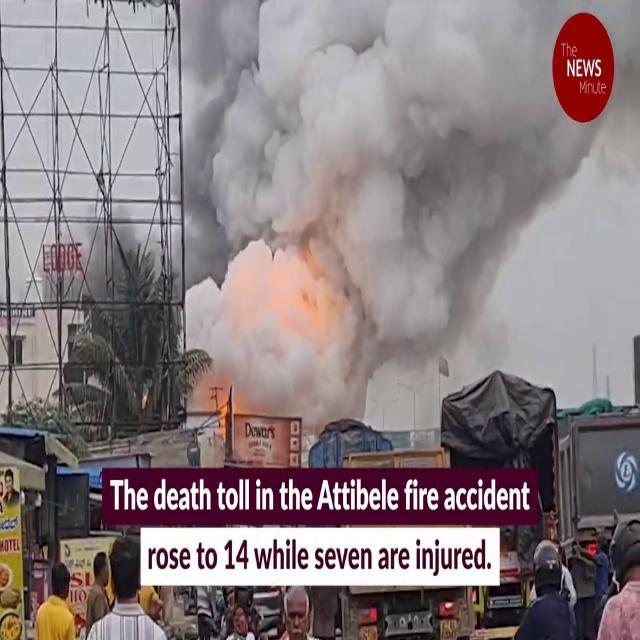Smoke: (174, 1, 574, 410)
